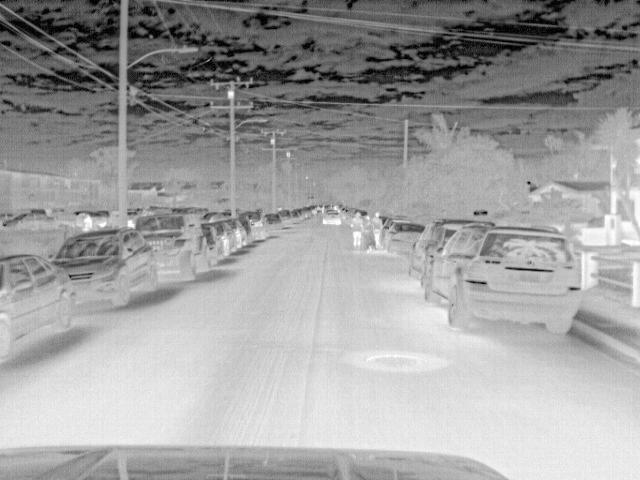car: (420, 222, 581, 338), (46, 227, 158, 313), (2, 255, 78, 365), (133, 211, 211, 284), (409, 220, 471, 282), (383, 220, 427, 255), (202, 226, 226, 268), (0, 211, 54, 229), (211, 220, 239, 254), (239, 212, 269, 240), (224, 220, 248, 248), (321, 209, 343, 226), (265, 213, 283, 230), (280, 209, 293, 226), (288, 209, 300, 224)
person: (371, 210, 384, 250), (350, 212, 363, 251), (362, 214, 374, 249)
